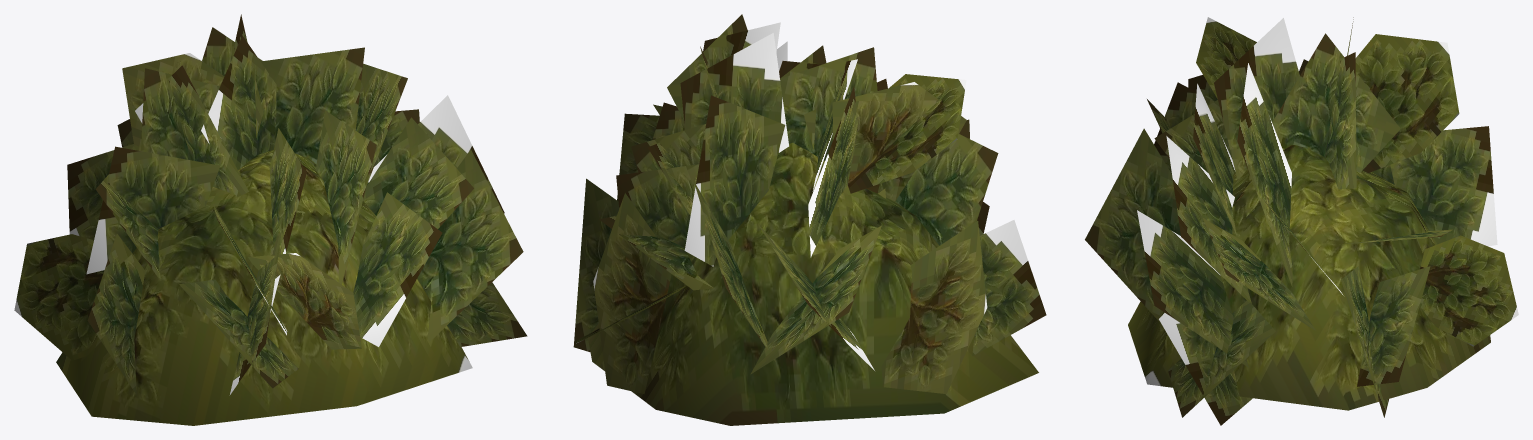
Rendered from bush-size-1.glb.
3 renders of one model, left to right at view 1: azimuth 30°, elevation 25°; view 2: azimuth 150°, elevation 25°; view 3: azimuth 270°, elevation 25°, orthographic. The views are drawn at different scales.
Parts seen in each view (by area): view 1: default; view 2: default; view 3: default.
Boxes of the visible parts, <box> form: default: <box>14,14,527,425</box>; default: <box>573,14,1046,425</box>; default: <box>1085,17,1518,425</box>.
Bounding box in the file's own units: 2.14 × 1.47 × 1.97.
Materials: 1 (1 with a texture image).
